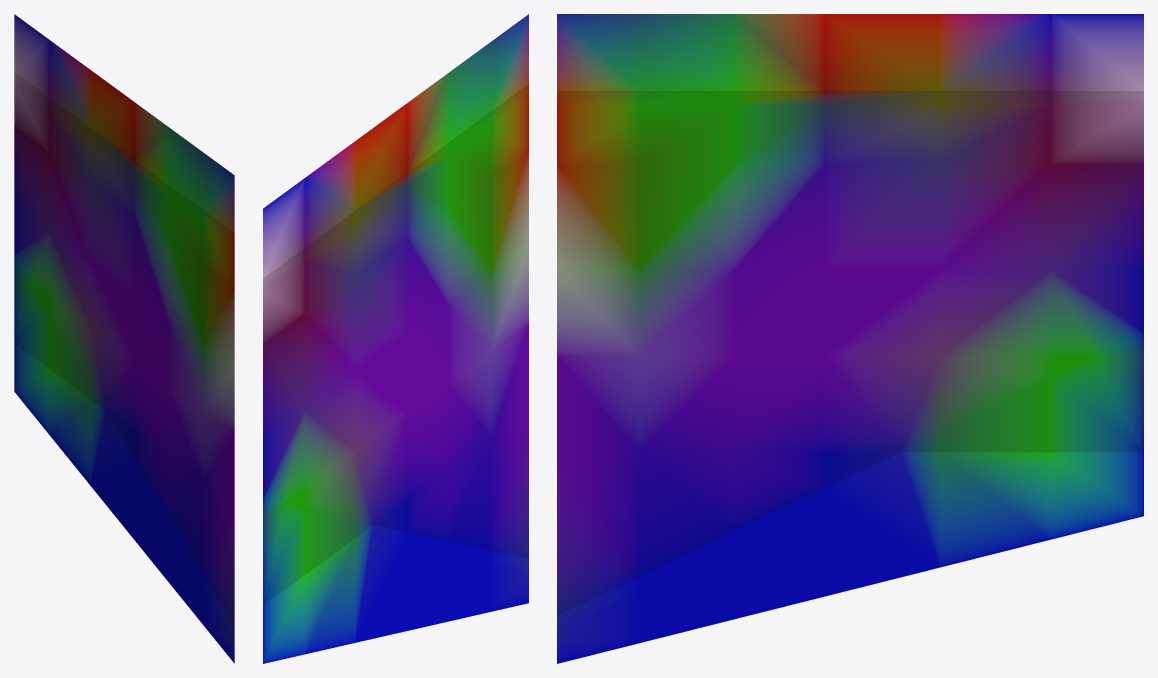
The picture shows the model from 3 angles, left to right: view 1: azimuth 30°, elevation 25°; view 2: azimuth 150°, elevation 25°; view 3: azimuth 270°, elevation 25°; orthographic projection. The views are drawn at different scales.
Visible parts, largest first — view 1: SM_Platform_BackWall_01_LOD0; view 2: SM_Platform_BackWall_01_LOD0; view 3: SM_Platform_BackWall_01_LOD0.
Part boxes in pixels (bbox=[...]): SM_Platform_BackWall_01_LOD0: bbox=[14, 14, 234, 663]; SM_Platform_BackWall_01_LOD0: bbox=[263, 14, 528, 663]; SM_Platform_BackWall_01_LOD0: bbox=[557, 14, 1143, 663].
Size of the model in its own units: 0.000119 by 450 by 550.
